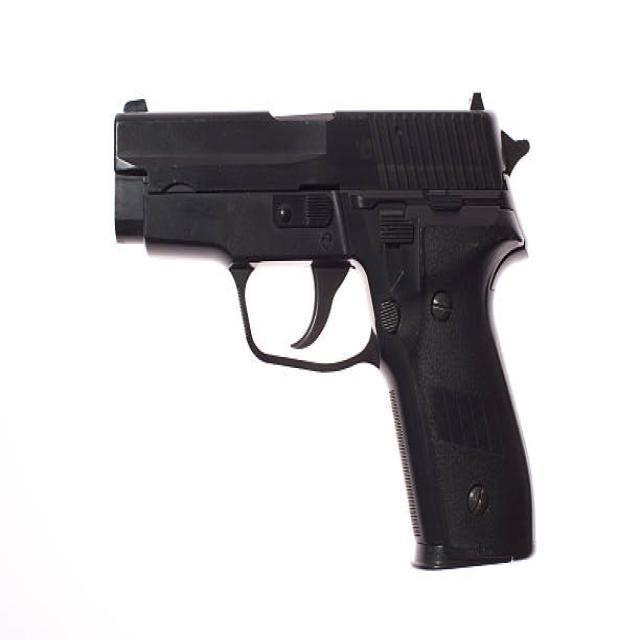pistol: (107, 89, 537, 584)
